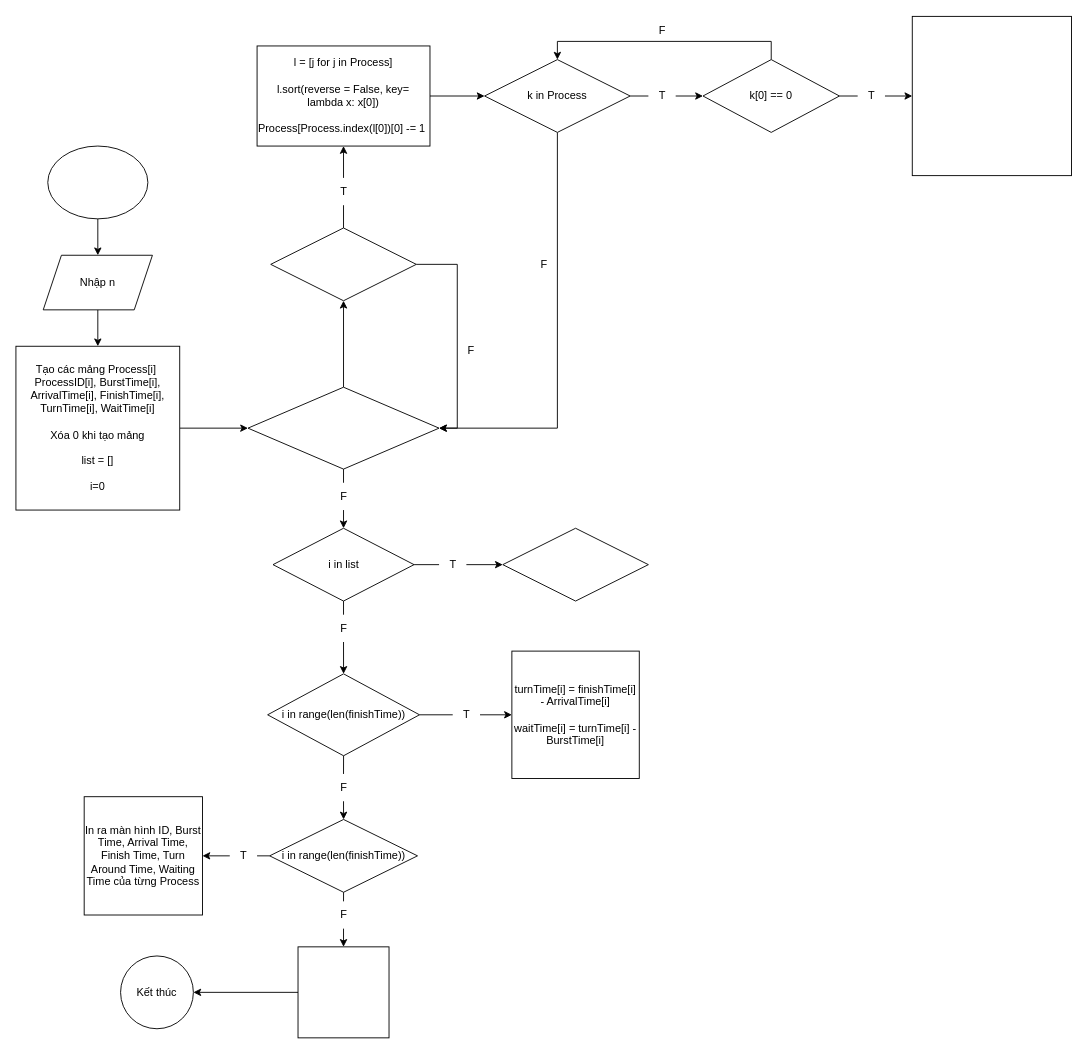
The diagram is 1087 pixels wide and 1054 high, and some of its shapes have lost their labels. Each missing label, with the centre of its shape:
Bắt Đầu: point (97, 182)
finishTime[i[0][3]] = i[1]: point (575, 564)
i in range (0, sum(Burst Time): point (343, 427)
j[1] < i: point (343, 264)
t = Process.pop(Process.index(k) list.append([k, i+1]: point (991, 95)
tính và in Average Waiting Time, Average TurnAround Time: point (343, 992)
